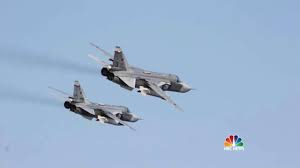fighter: (85, 41, 197, 117), (52, 79, 157, 131)
